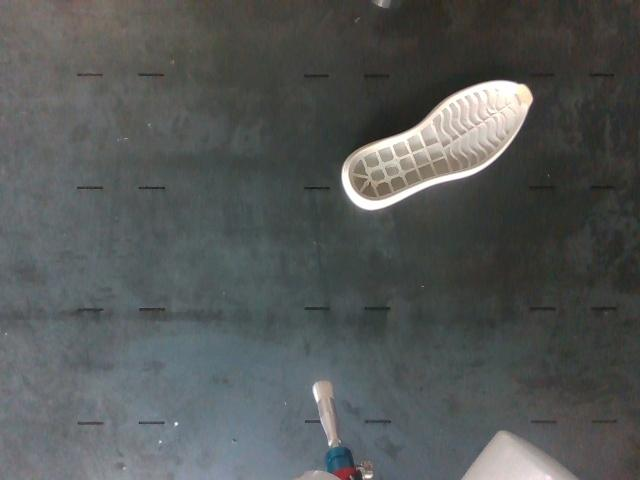shoes: (347, 82, 531, 201)
